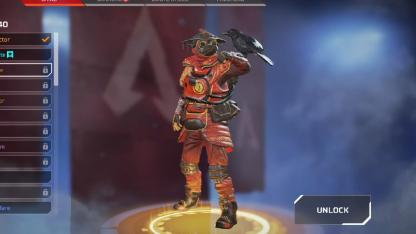Target: (175, 28, 229, 202)
